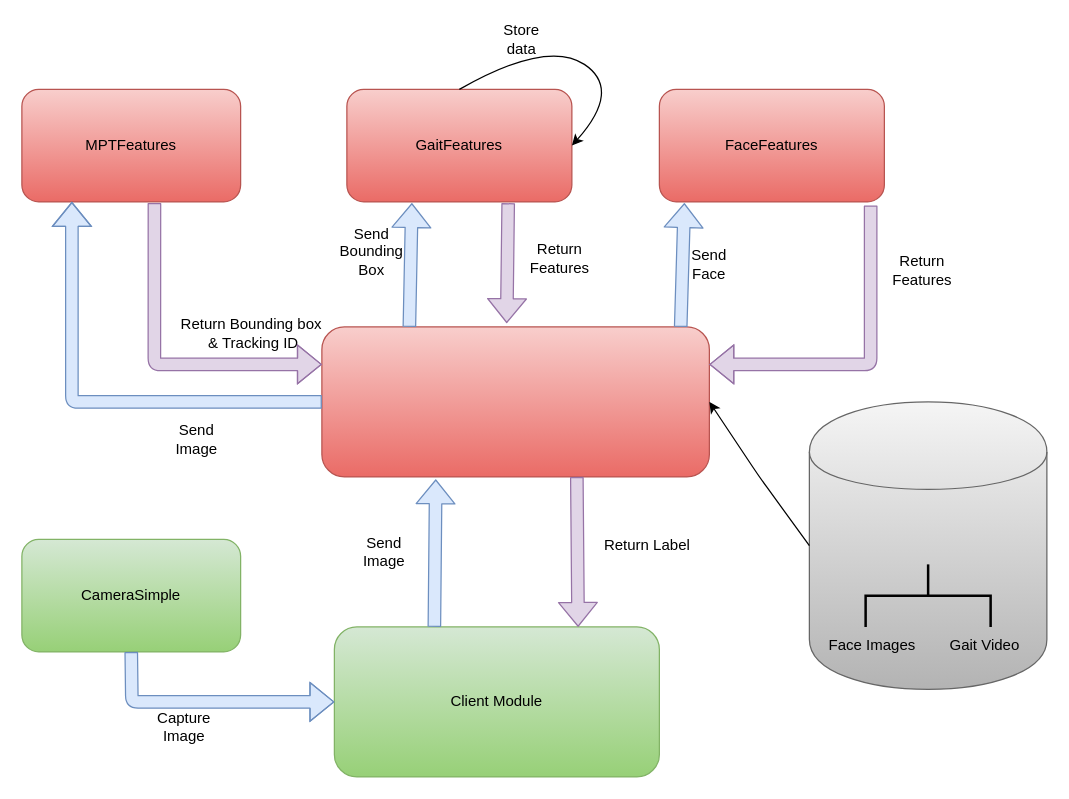
Image size: 1069x799. Some labels were removed from this diagram. Each missing label, with the centre of its shape:
Database: (x=927, y=595)
Multi-modal human identification: (x=515, y=401)
